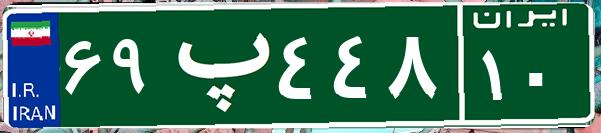0: (525, 38, 570, 115)
1: (475, 38, 525, 113)
4: (273, 28, 330, 110), (330, 28, 385, 110)
6: (57, 26, 110, 107)
8: (385, 28, 445, 110)
9: (110, 28, 158, 105)
پ: (158, 15, 273, 115)
